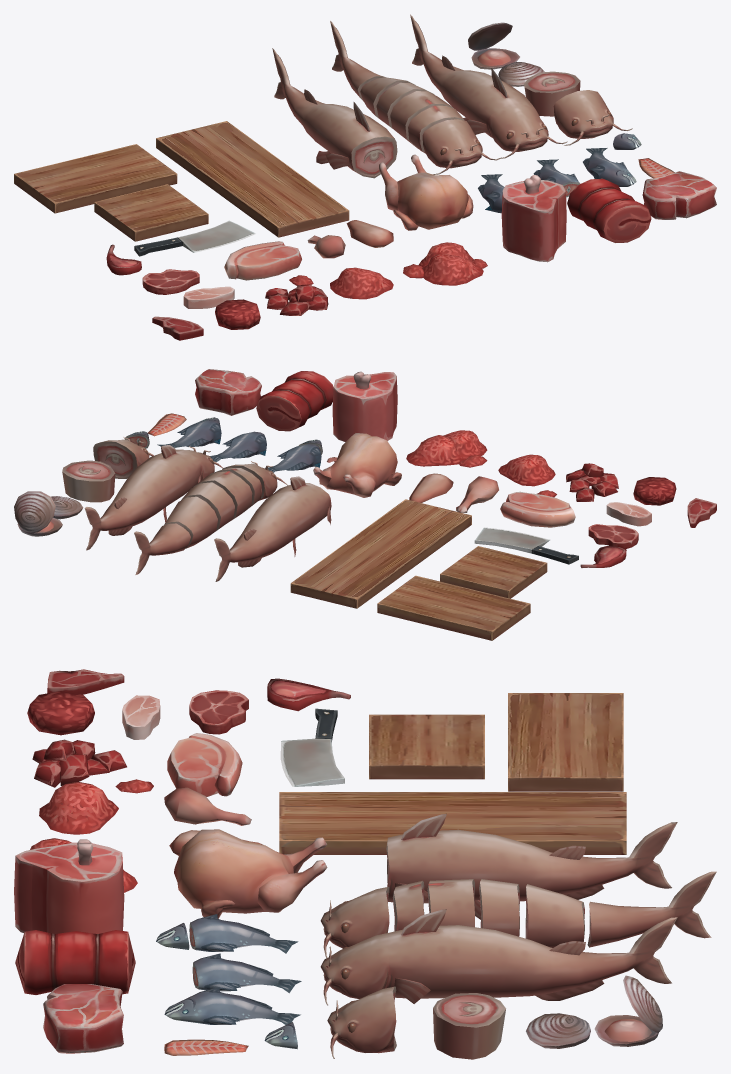
File: sliced steak.fbx
The picture shows the model from 3 angles, top to bottom: view 1: azimuth 30°, elevation 25°; view 2: azimuth 150°, elevation 25°; view 3: azimuth 270°, elevation 25°; orthographic projection. The views are drawn at different scales.
Parts seen in each view (by area): view 1: geo_long_wood_mat_meat_0, geo_sliced_catfish_mat_meat_0, geo_catfish_mat_meat_0, geo_rectangle_wood_mat_meat_0, geo_catfish_headless_mat_meat_0, geo_bigmeat_mat_meat_0, geo_fullchicken_mat_meat_0, geo_square_wood_mat_meat_0, geo_meatroll_mat_meat_0, geo_giantsteak_mat_meat_0, geo_catfish_head_mat_meat_0, geo_groundbeef_03_mat_meat_0 (+17 smaller); view 2: geo_long_wood_mat_meat_0, geo_sliced_catfish_mat_meat_0, geo_rectangle_wood_mat_meat_0, geo_catfish_mat_meat_0, geo_catfish_headless_mat_meat_0, geo_bigmeat_mat_meat_0, geo_fullchicken_mat_meat_0, geo_square_wood_mat_meat_0, geo_meatroll_mat_meat_0, geo_giantsteak_mat_meat_0, geo_groundbeef_03_mat_meat_0, geo_porkslab_mat_meat_0 (+18 smaller); view 3: geo_catfish_mat_meat_0, geo_long_wood_mat_meat_0, geo_sliced_catfish_mat_meat_0, geo_catfish_headless_mat_meat_0, geo_rectangle_wood_mat_meat_0, geo_bigmeat_mat_meat_0, geo_fullchicken_mat_meat_0, geo_square_wood_mat_meat_0, geo_meatroll_mat_meat_0, geo_giantsteak_mat_meat_0, geo_catfish_slice_mat_meat_0, geo_porkslab_mat_meat_0 (+16 smaller).
Part boxes in pixels (x1,y1,x2,y2): geo_long_wood_mat_meat_0: (156,121,349,237); geo_sliced_catfish_mat_meat_0: (330,21,501,174); geo_catfish_mat_meat_0: (410,14,567,158); geo_rectangle_wood_mat_meat_0: (14,144,177,213); geo_catfish_headless_mat_meat_0: (272,48,397,178); geo_bigmeat_mat_meat_0: (501,174,566,262); geo_fullchicken_mat_meat_0: (379,154,473,230); geo_square_wood_mat_meat_0: (94,184,208,241); geo_meatroll_mat_meat_0: (567,178,651,242); geo_giantsteak_mat_meat_0: (642,171,716,219); geo_catfish_head_mat_meat_0: (553,90,632,145); geo_groundbeef_03_mat_meat_0: (403,242,487,285); geo_long_wood_mat_meat_0: (290,499,471,608); geo_sliced_catfish_mat_meat_0: (134,461,288,574); geo_rectangle_wood_mat_meat_0: (377,575,530,640); geo_catfish_mat_meat_0: (84,445,222,550); geo_catfish_headless_mat_meat_0: (214,476,331,581); geo_bigmeat_mat_meat_0: (332,371,397,441); geo_fullchicken_mat_meat_0: (313,433,401,497); geo_square_wood_mat_meat_0: (440,546,547,598); geo_meatroll_mat_meat_0: (256,371,333,431); geo_giantsteak_mat_meat_0: (195,369,261,415); geo_groundbeef_03_mat_meat_0: (406,430,487,467); geo_porkslab_mat_meat_0: (500,491,575,527); geo_catfish_mat_meat_0: (320,909,677,1005); geo_long_wood_mat_meat_0: (279,792,626,854); geo_sliced_catfish_mat_meat_0: (320,871,716,958); geo_catfish_headless_mat_meat_0: (386,813,677,919); geo_rectangle_wood_mat_meat_0: (508,693,623,791); geo_bigmeat_mat_meat_0: (14,839,124,933); geo_fullchicken_mat_meat_0: (174,829,327,918); geo_square_wood_mat_meat_0: (369,714,484,779); geo_meatroll_mat_meat_0: (15,930,135,994); geo_giantsteak_mat_meat_0: (43,984,123,1053); geo_catfish_slice_mat_meat_0: (433,993,505,1059); geo_porkslab_mat_meat_0: (167,733,242,796).
Bounding box in the file's own units: 12716 × 1590 × 9790.
32 materials, 32 textured.
